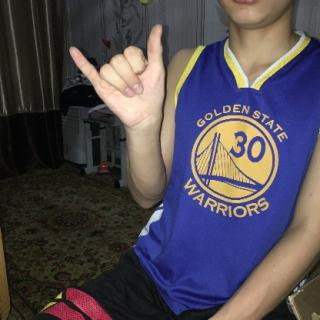YA: (68, 21, 170, 129)
